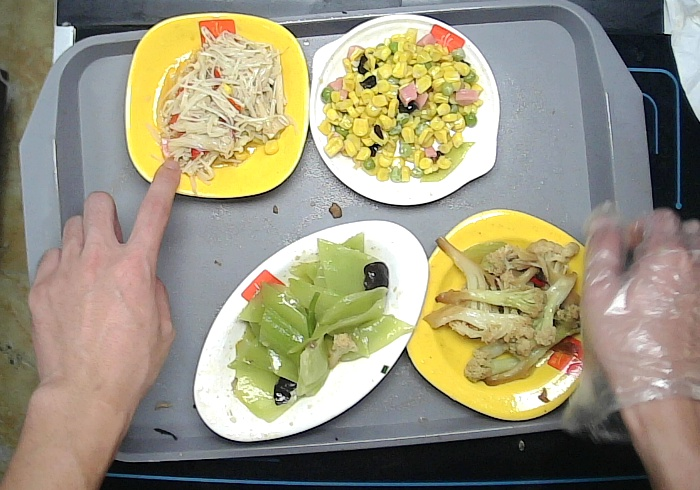SHKJ-Bao_Yu_Pan: (309, 14, 500, 207)
SHKJ-Huang_Se_Cai_Die: (124, 13, 309, 198)
SHKJ-Huang_Se_Si_Fang_Cai_Die: (406, 208, 610, 420)
SHKJ-Yu_Pan: (192, 220, 426, 441)
